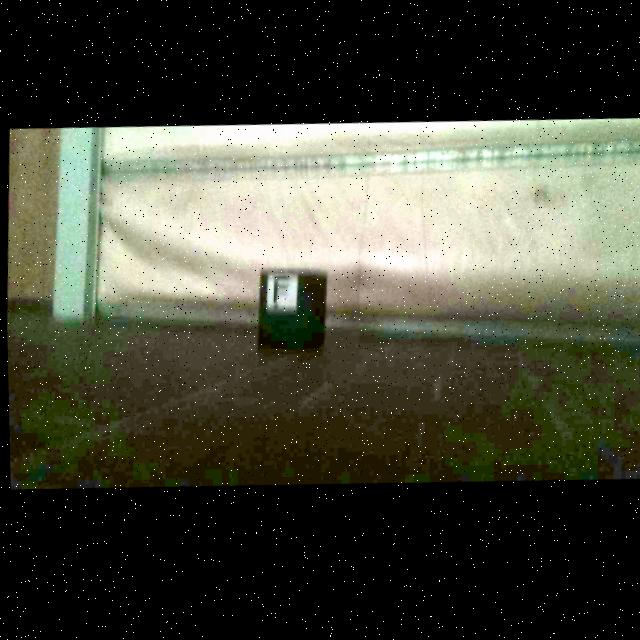F: (272, 279, 289, 306)
